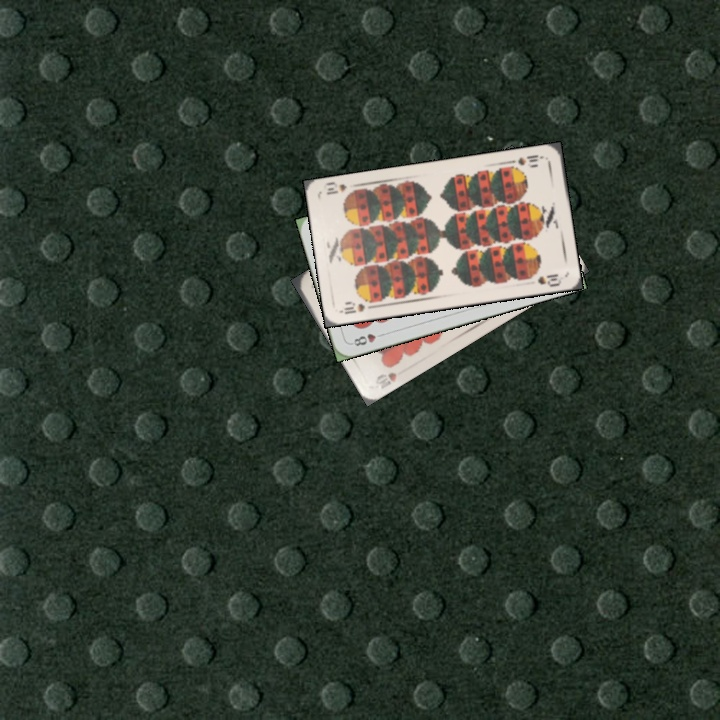H10: (371, 368, 399, 392)
H8: (347, 329, 387, 349)
S10: (338, 298, 378, 317), (514, 151, 546, 168)
